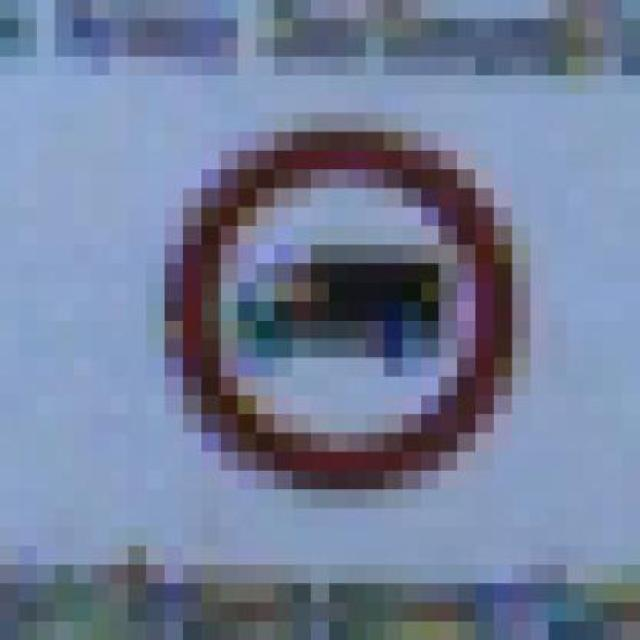Truck traffic is prohibited: (109, 132, 531, 508)
